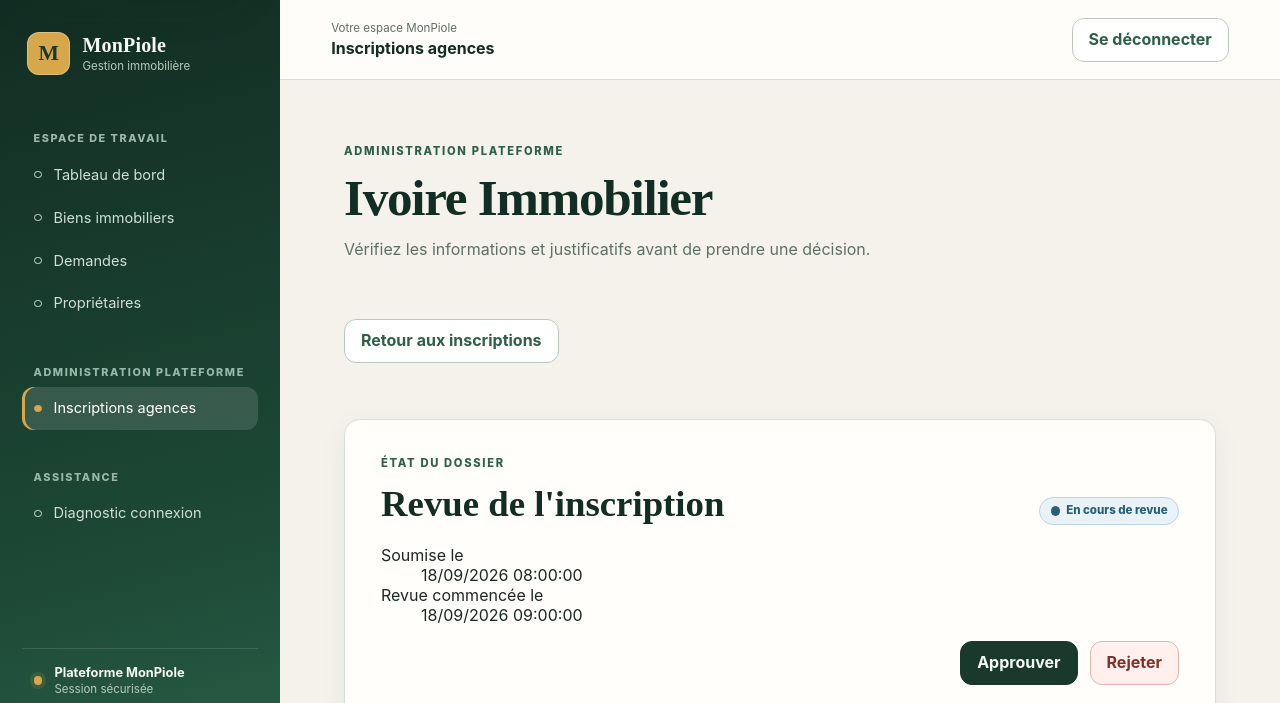
Test: Revue d'une inscription agence › affiche un refus explicite lorsque l'approbation est interdite
Click the button "Approuver".
click(1019, 663)  # box 960,641 -> 1078,685
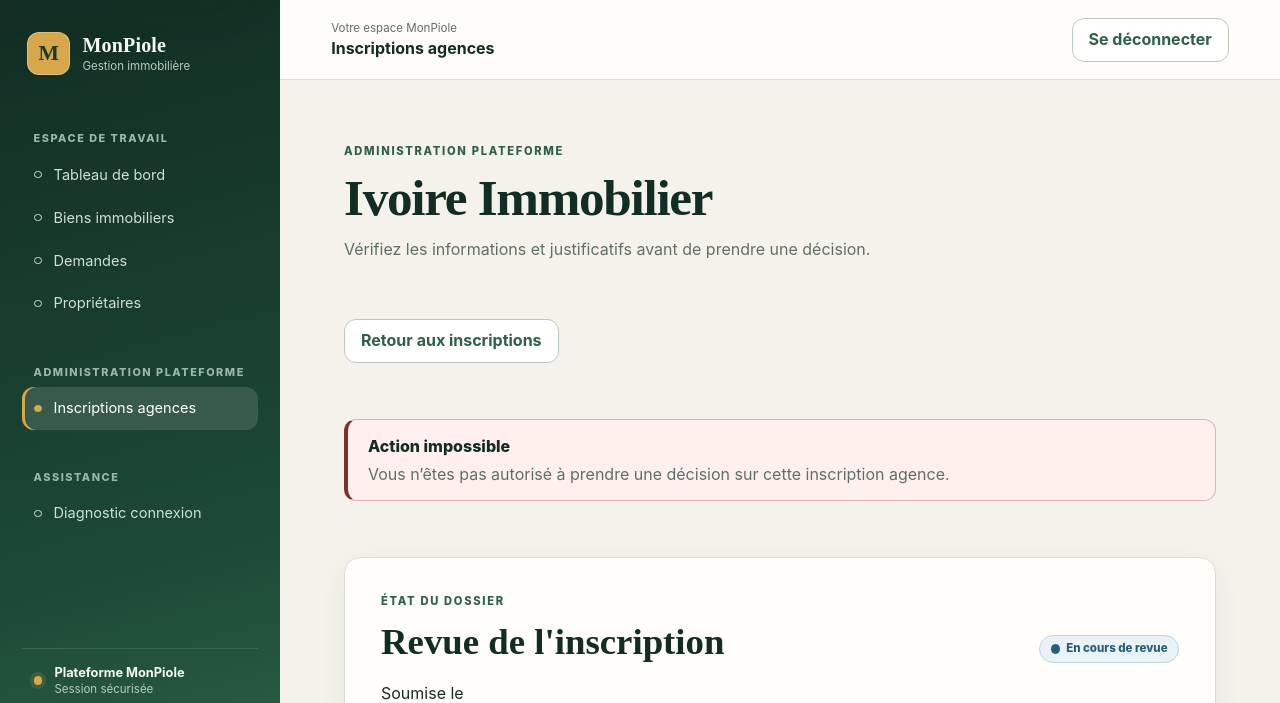
Now the message shows "Vous n’êtes pas autorisé à prendre une décision sur cette inscription agence.", box 368,464 -> 950,484
